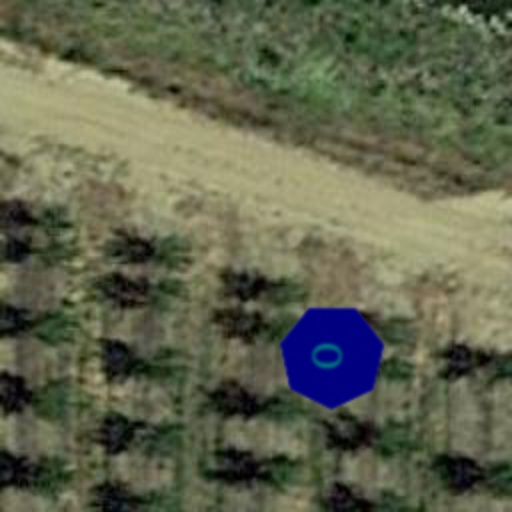heptagon: (276, 300, 388, 412)
